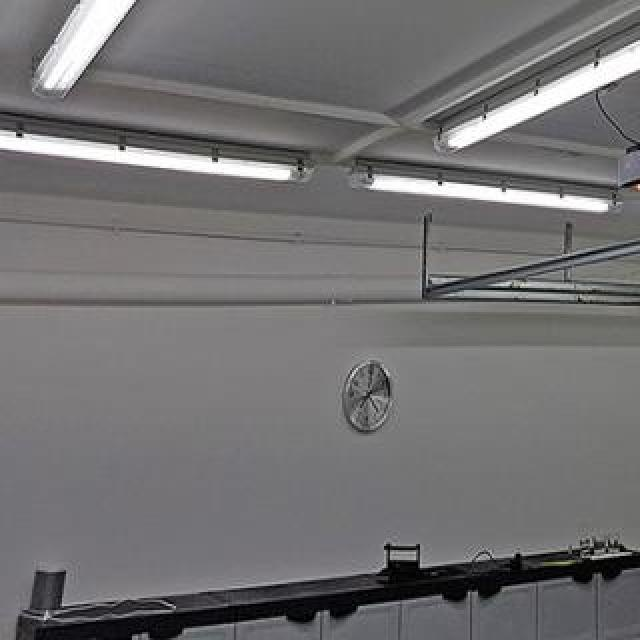fluorescent tube: (378, 0, 640, 170), (0, 0, 234, 114)
